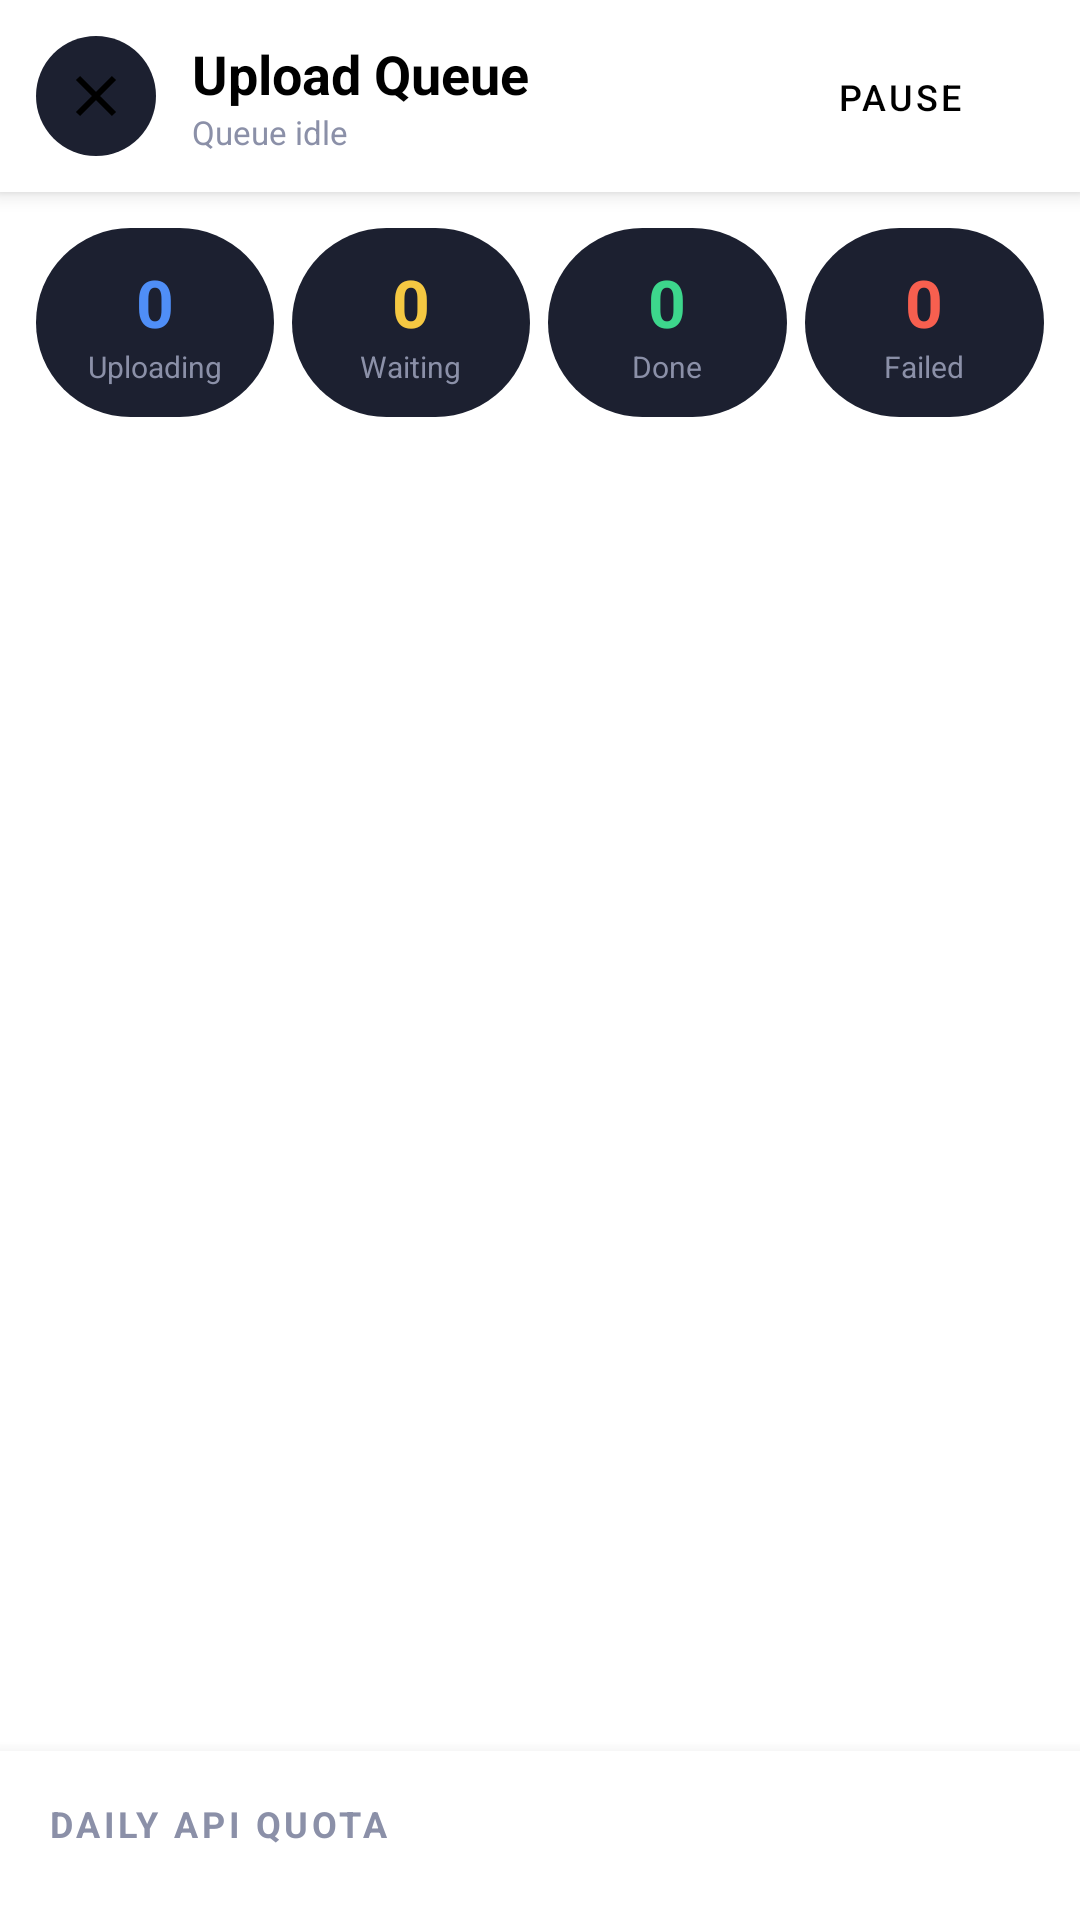

Named icons in this screenshot (1080px×1920px) and their bounding boxes, [left=x1, top=y1, right=x2, bottom=y2]:
Close: [left=36, top=36, right=156, bottom=156]
